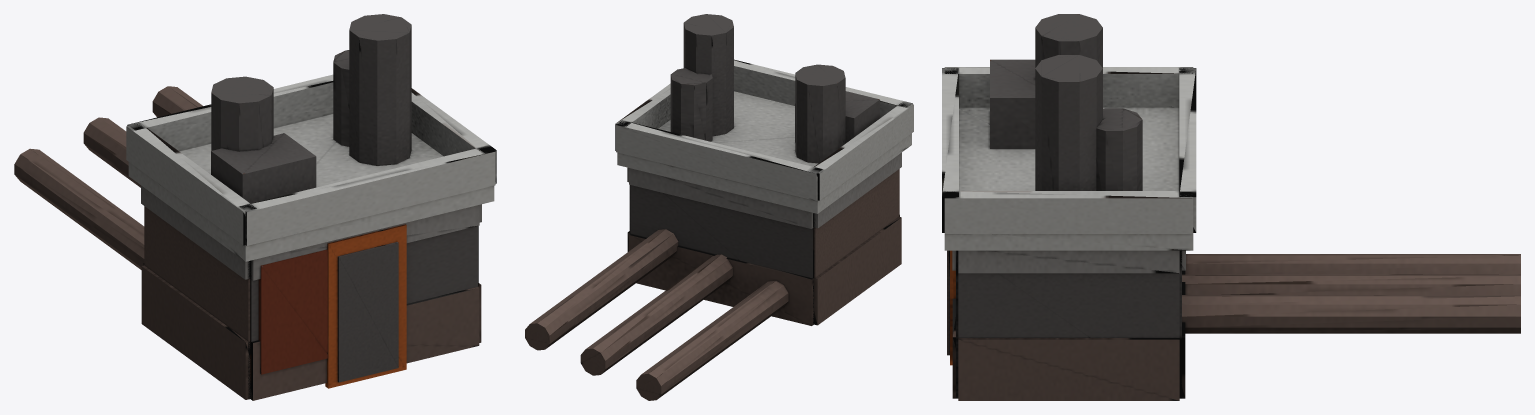
Rendered from B_intake.glb.
3 renders of one model, left to right at view 1: azimuth 30°, elevation 25°; view 2: azimuth 150°, elevation 25°; view 3: azimuth 270°, elevation 25°, orthographic. The views are drawn at different scales.
Parts seen in each view (by area): view 1: Cube; view 2: Cube; view 3: Cube.
Part boxes in pixels (x1,y1,x2,y2): Cube: (14, 14, 496, 400); Cube: (525, 14, 913, 400); Cube: (942, 14, 1520, 400).
Size of the model in its own units: 5.5 by 6.1 by 10.25.
1 material, 1 textured.
